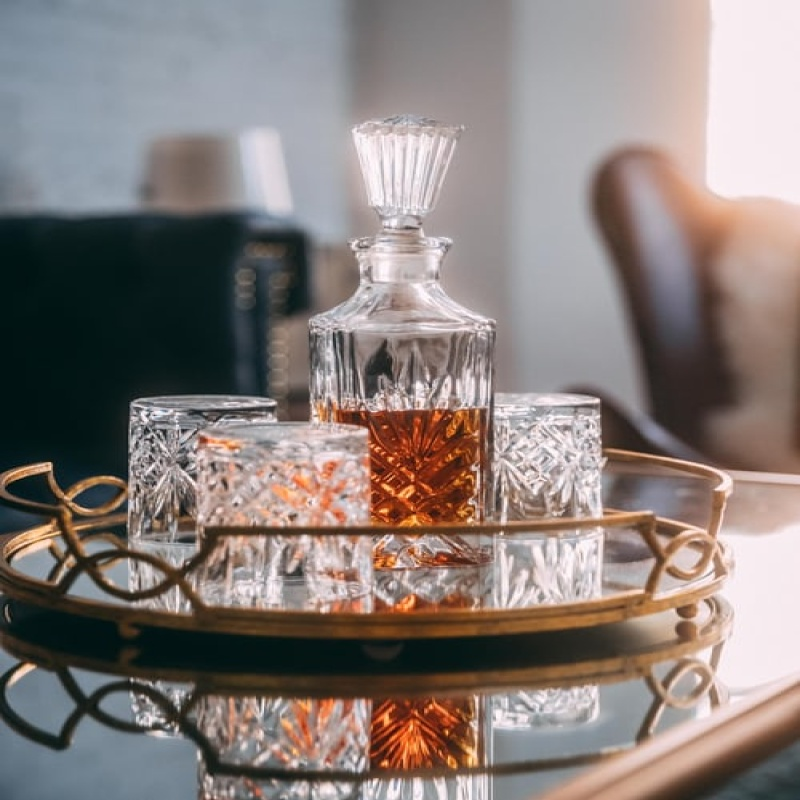whiskey: (188, 425, 361, 605), (481, 391, 604, 531)
